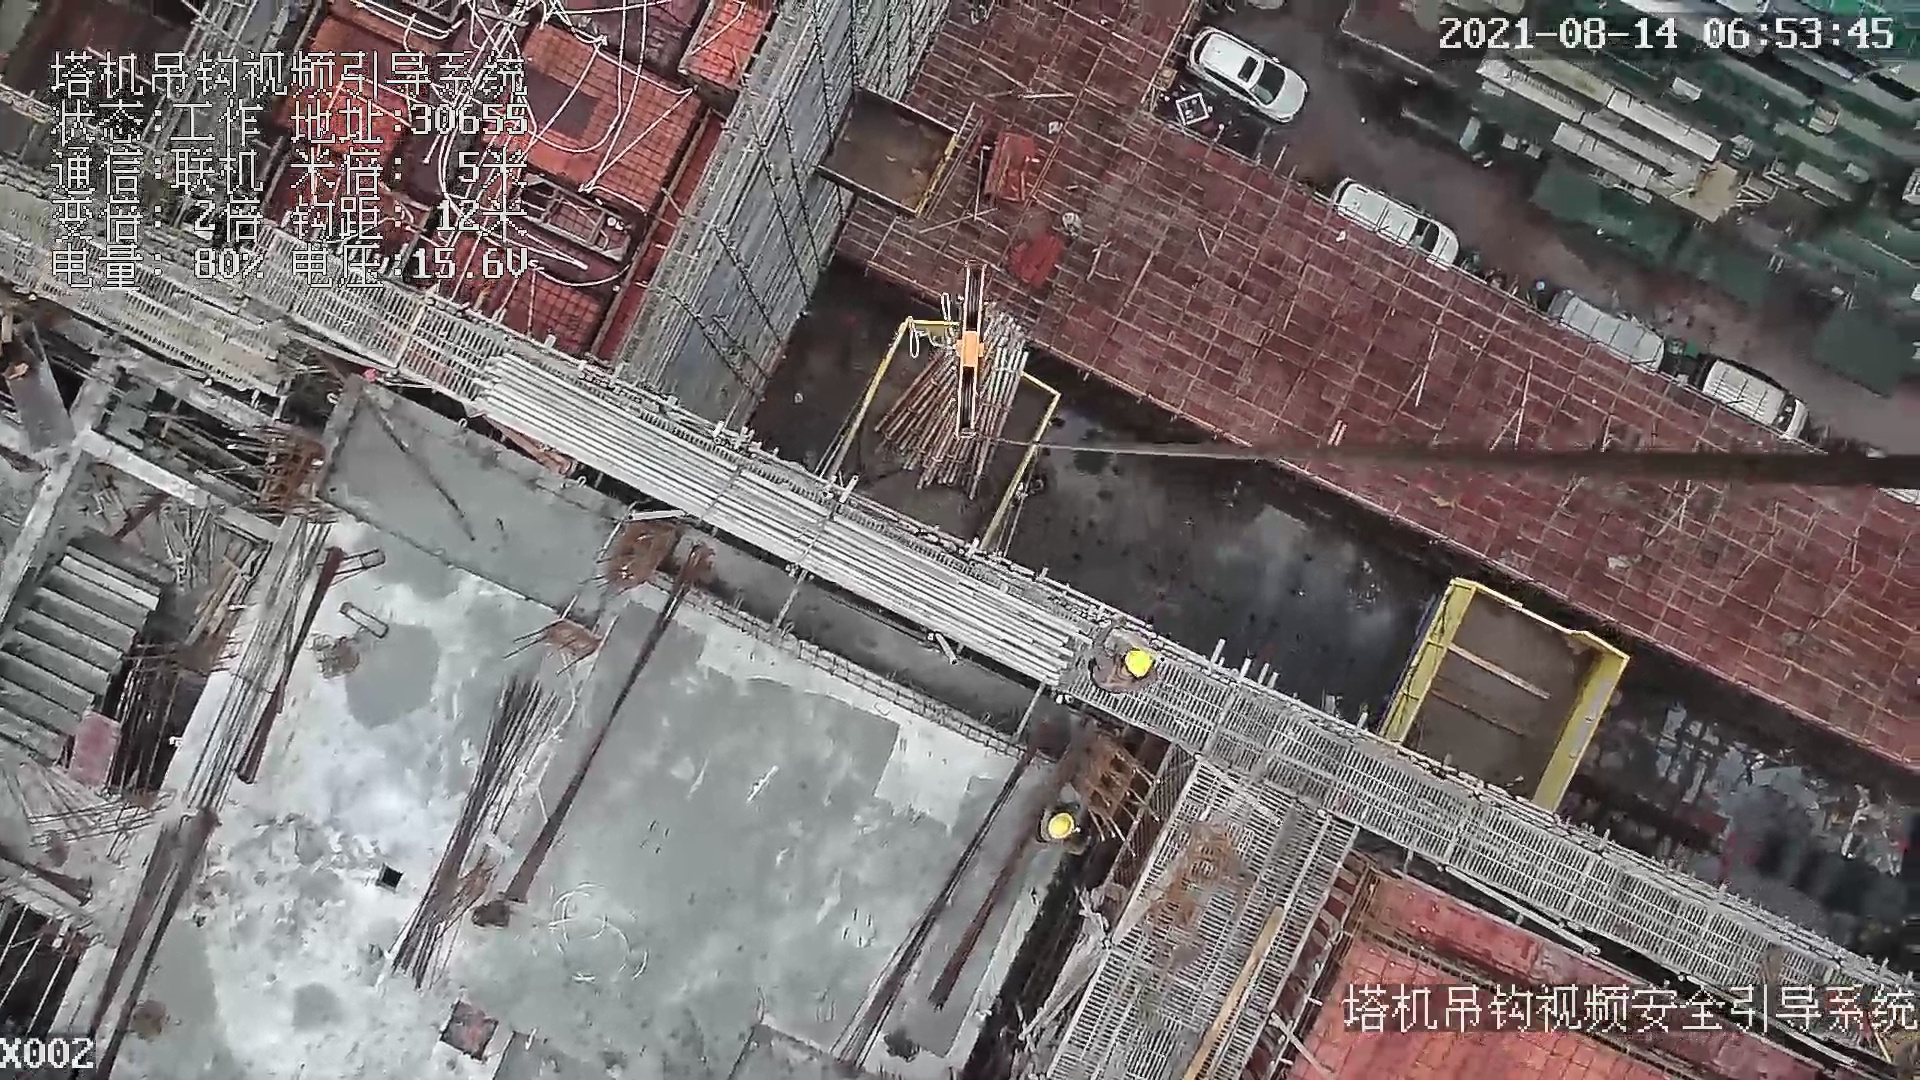helmet: (1123, 649, 1149, 678), (1047, 813, 1074, 840)
hook: (945, 269, 994, 447)
person: (1090, 614, 1159, 699), (1036, 801, 1100, 859)
rebar: (467, 353, 1082, 695), (387, 681, 563, 990)
scaffold: (877, 315, 1028, 497)
